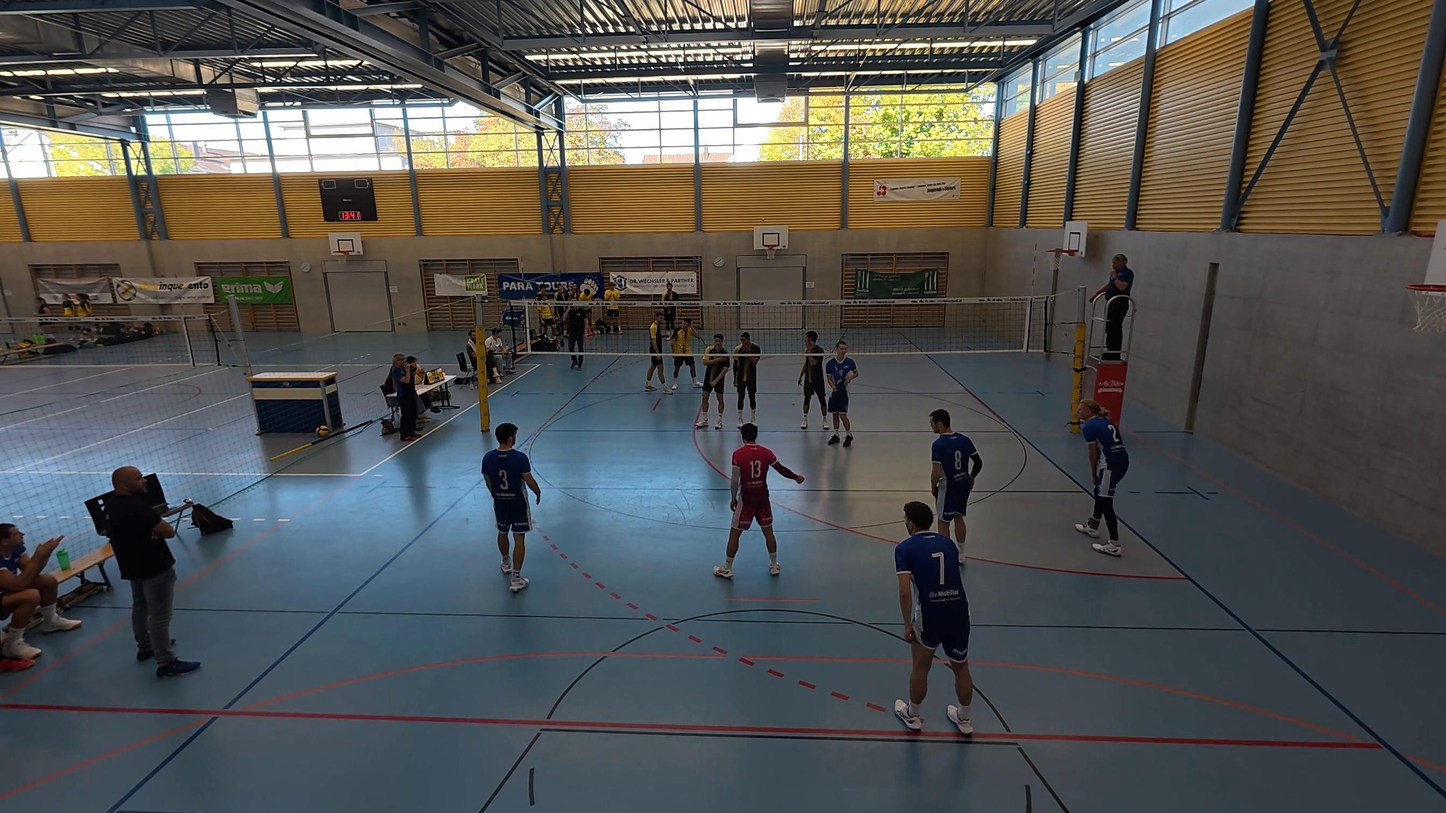Player: (892, 501, 974, 735), (713, 423, 803, 579), (482, 423, 540, 591), (1076, 398, 1129, 555), (928, 409, 982, 546), (824, 340, 859, 448), (696, 326, 732, 429), (797, 331, 828, 430), (732, 331, 763, 427), (641, 315, 668, 396), (674, 319, 701, 390), (656, 280, 681, 341)
